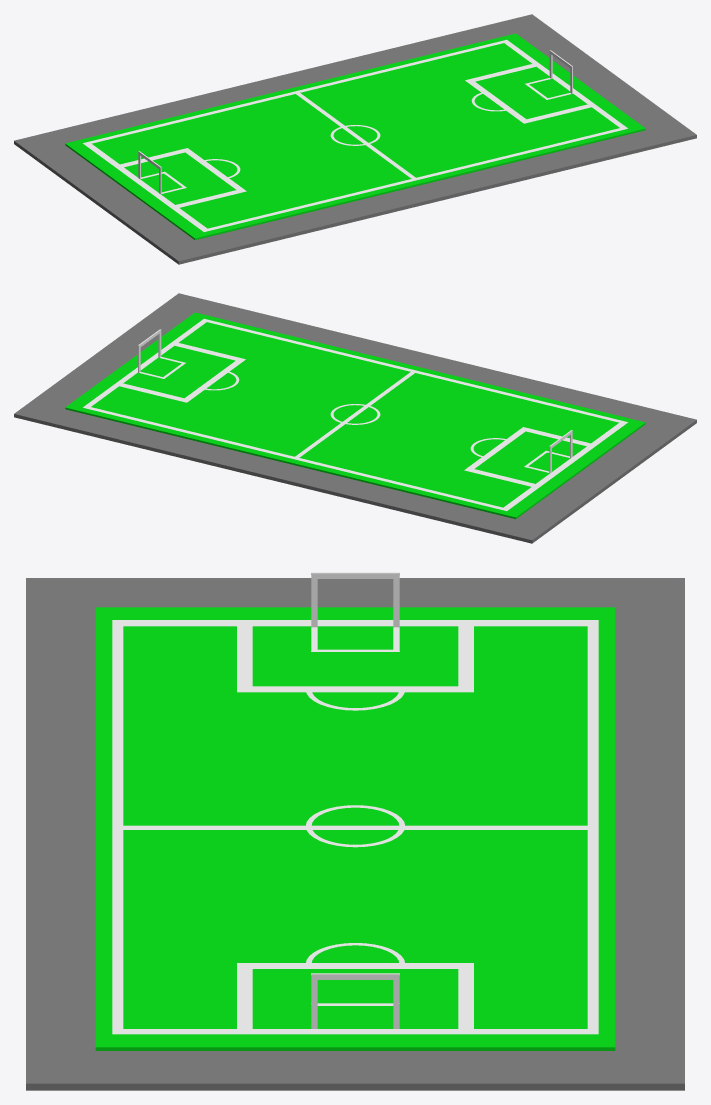
Rendered from playground (1).fbx.
3 views of the same model, one above another, from view 1: azimuth 30°, elevation 25°; view 2: azimuth 150°, elevation 25°; view 3: azimuth 270°, elevation 25° (orthographic). The views are drawn at different scales.
Visible parts, largest first — view 1: playground_green, playground_grey, playground_White; view 2: playground_green, playground_grey, playground_White; view 3: playground_green, playground_grey, playground_White.
Part boxes in pixels (x1,y1,x2,y2): playground_green: (65, 33, 645, 240); playground_grey: (14, 14, 696, 264); playground_White: (83, 39, 627, 231); playground_green: (65, 312, 645, 519); playground_grey: (14, 293, 696, 543); playground_White: (83, 318, 627, 510); playground_green: (95, 607, 615, 1050); playground_grey: (26, 578, 684, 1090); playground_White: (112, 572, 598, 1034).
Size of the model in its own units: 901 by 54.02 by 496.
